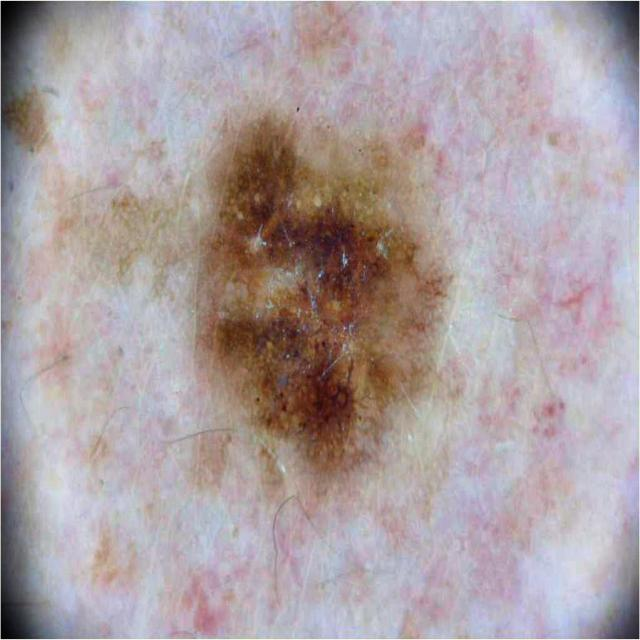Melanocytic-Nevi-NV-: (198, 107, 451, 471)
